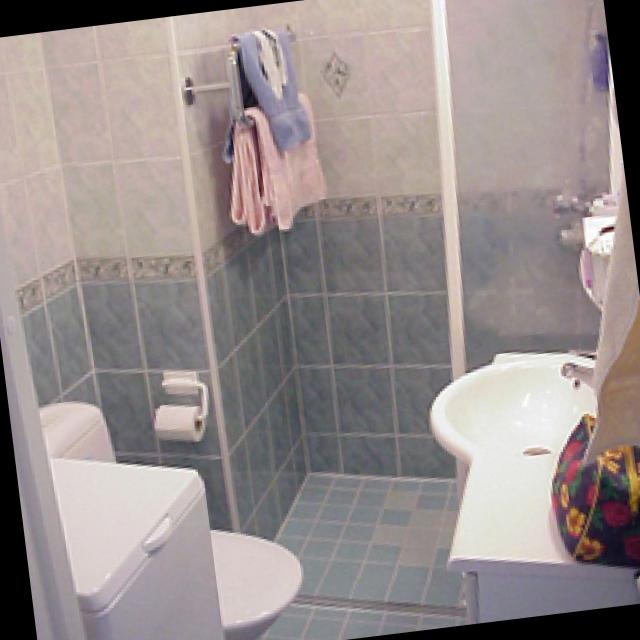bottle crop: (596, 28, 611, 88)
clothes hook: (55, 456, 224, 640)
counter bottom: (457, 455, 632, 561)
shower crop: (174, 0, 622, 609)
shower door: (433, 0, 610, 366)
shower handle: (558, 182, 611, 241)
sink basin: (428, 342, 640, 622), (441, 354, 590, 457)
sink occluded: (565, 357, 597, 382)
toilet bowl: (41, 399, 305, 640)
toilet paper: (158, 364, 210, 435)
towel basket: (584, 177, 640, 456), (232, 90, 330, 231), (241, 26, 312, 146)
towel ring: (187, 33, 256, 119)
towels: (226, 29, 334, 229)
